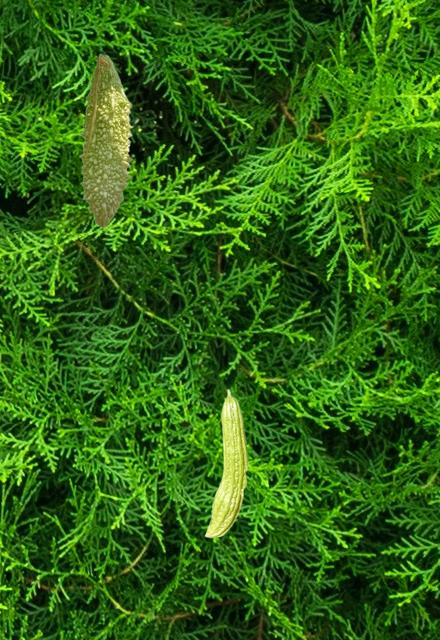ampalaya: (77, 53, 135, 229), (204, 388, 248, 539)
